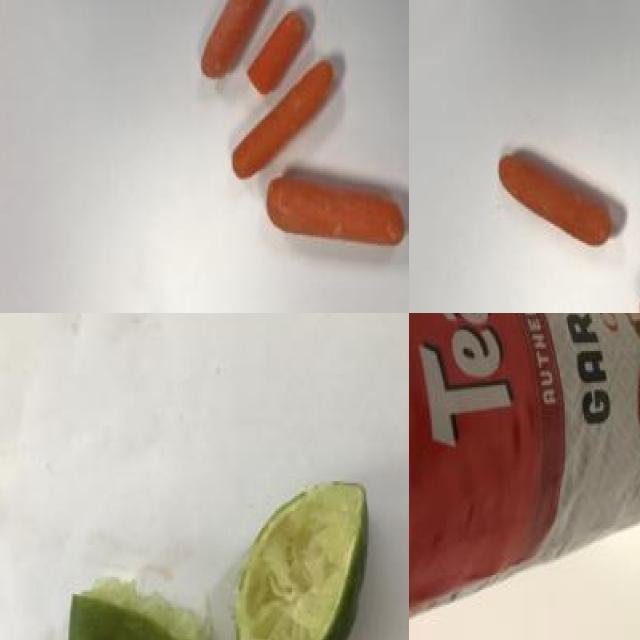compost: (187, 0, 409, 296), (44, 478, 375, 640), (492, 0, 640, 313)
plastic: (409, 313, 640, 640)
